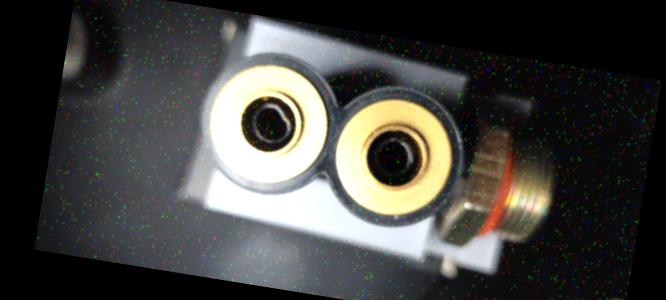off-centered: (245, 98, 297, 148)
